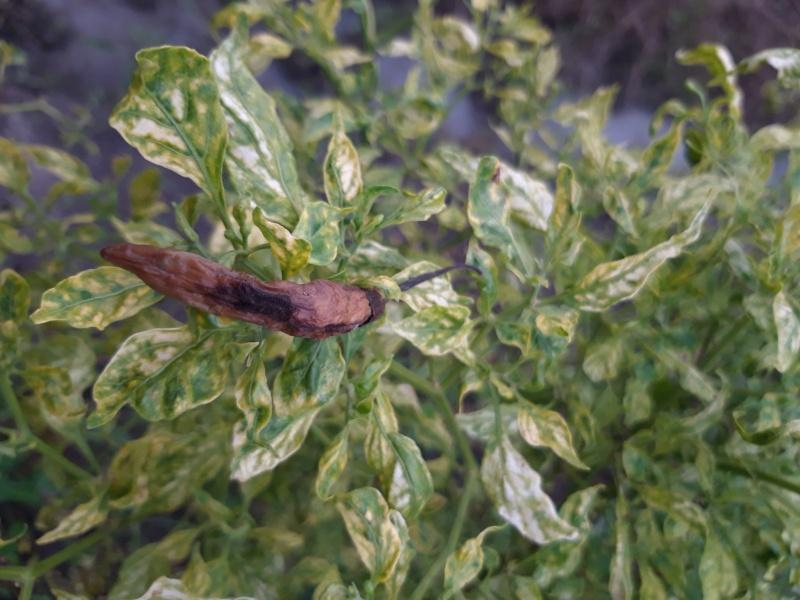antraknosa: (98, 238, 375, 340)
